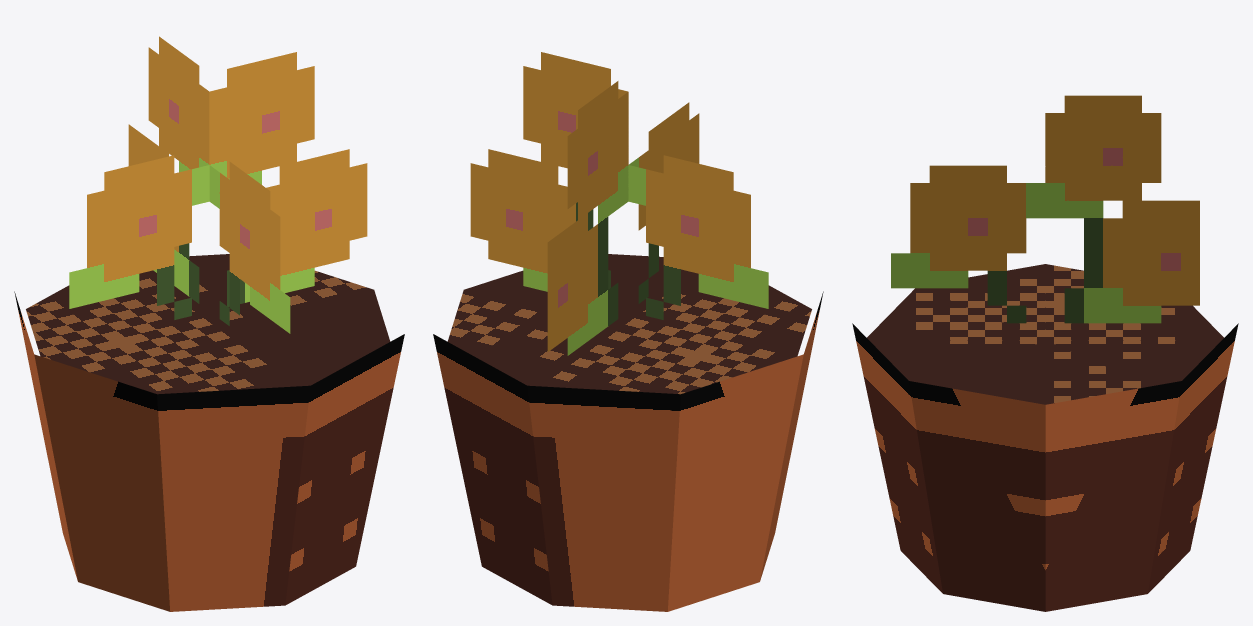
File: pot_R.glb
3 views of the same model, side by side, from view 1: azimuth 30°, elevation 25°; view 2: azimuth 150°, elevation 25°; view 3: azimuth 270°, elevation 25° (orthographic). The views are drawn at different scales.
Visible parts, largest first — view 1: pot_R; view 2: pot_R; view 3: pot_R.
Part boxes in pixels (x1,y1,x2,y2): pot_R: (14, 36, 404, 611); pot_R: (433, 52, 823, 611); pot_R: (852, 95, 1238, 611).
Size of the model in its own units: 20 by 26 by 20.
Materials: 1 (1 with a texture image).
